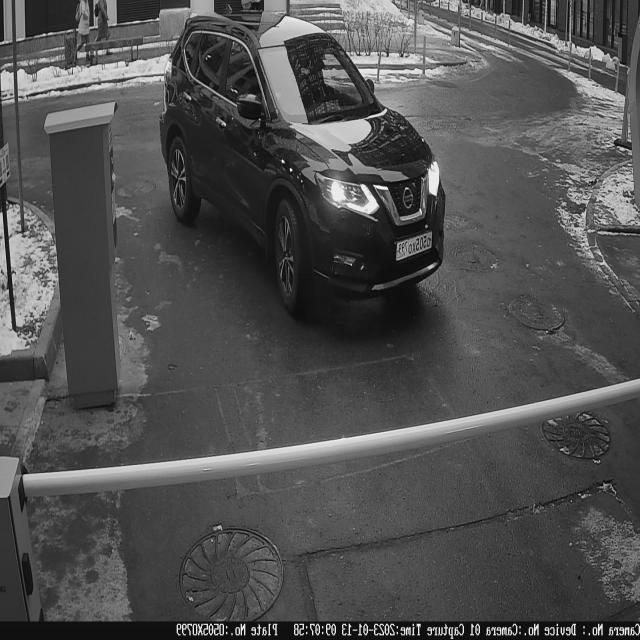car-plate-numbers: (395, 229, 436, 263)
